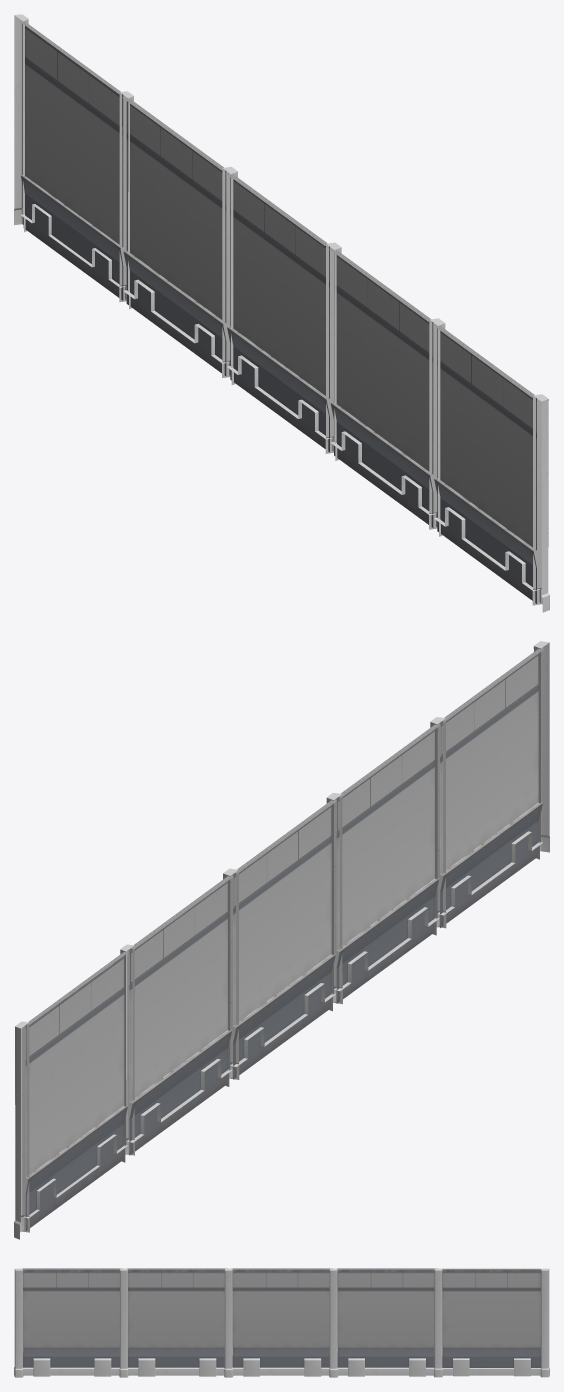
Rendered from Pfb_JALB_WallPart2_Line__15.fbx.
The picture shows the model from 3 angles, top to bottom: view 1: azimuth 30°, elevation 25°; view 2: azimuth 150°, elevation 25°; view 3: azimuth 270°, elevation 25°; orthographic projection. The views are drawn at different scales.
Visible parts, largest first — view 1: MAT_JLABWall; view 2: MAT_JLABWall; view 3: MAT_JLABWall.
Boxes of the visible parts, <box> form: MAT_JLABWall: <box>14,14,549,612</box>; MAT_JLABWall: <box>14,641,549,1239</box>; MAT_JLABWall: <box>14,1268,549,1377</box>.
Bounding box in the file's own units: 0.2509 × 4.04 × 18.4.
1 material, 1 textured.
